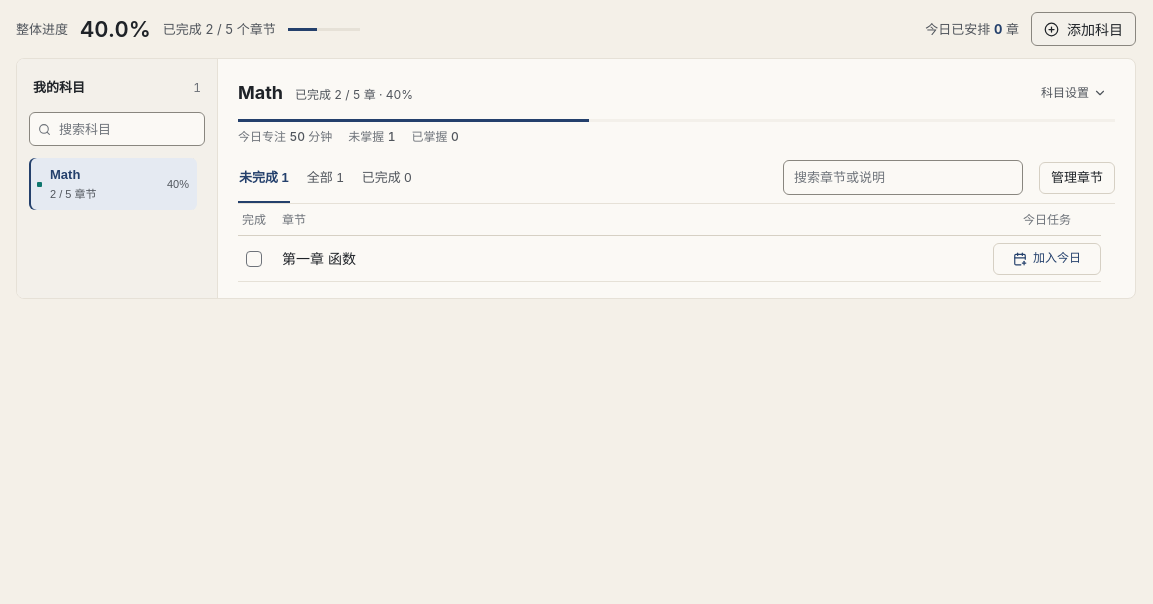
Test case: StudyProgress detailed subject chapters › keeps management tools out of planning until explicitly opened
Click the button with test id "chapter-management-toggle" at (1077, 178), box [1039,162,1115,194]
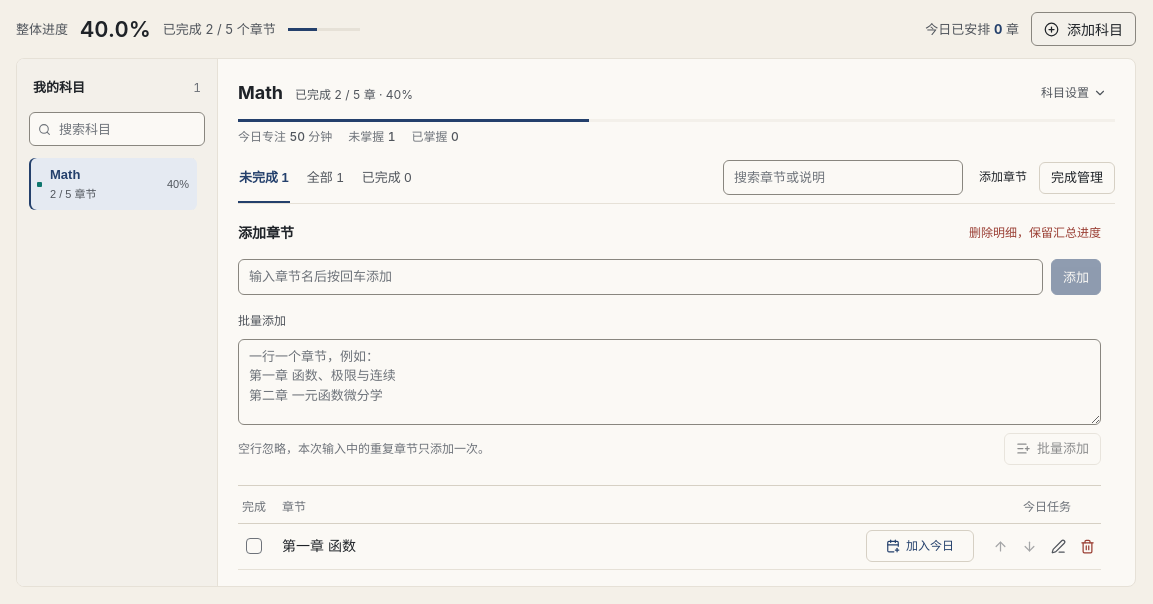
Result: the button with test id "chapter-management-toggle" is expanded
Result: the button with test id "chapter-management-toggle" reads "完成管理"
Result: the field with test id "chapter-title-input" is shown at [238,259,1043,294]
Click the button with test id "chapter-management-toggle" at (1077, 178), box [1039,162,1115,194]
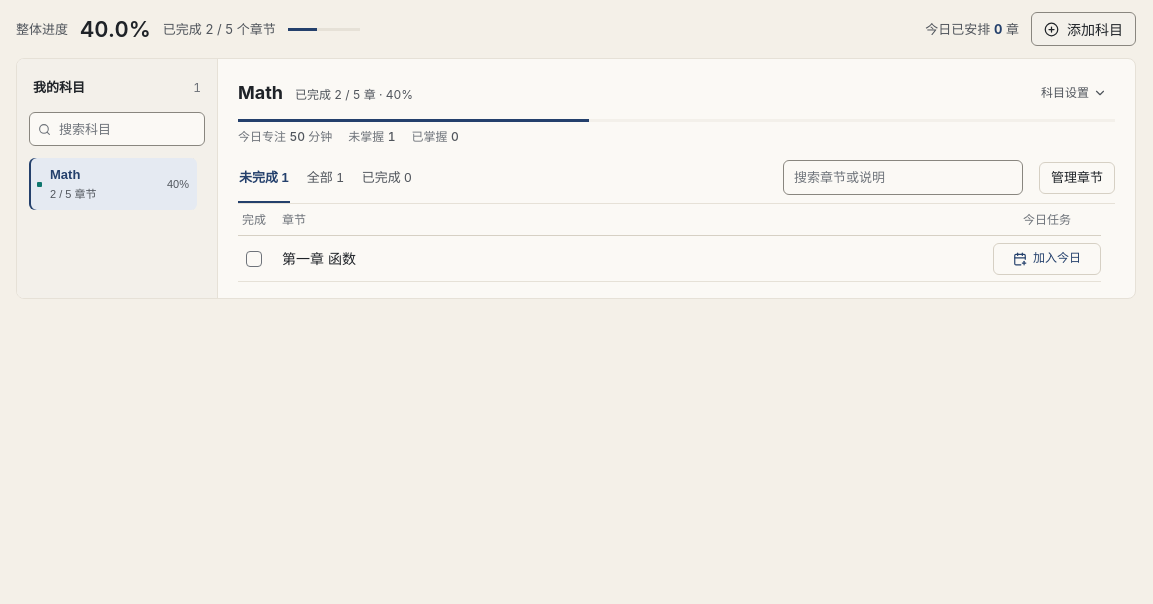
Result: the button titled "编辑章节" is gone
